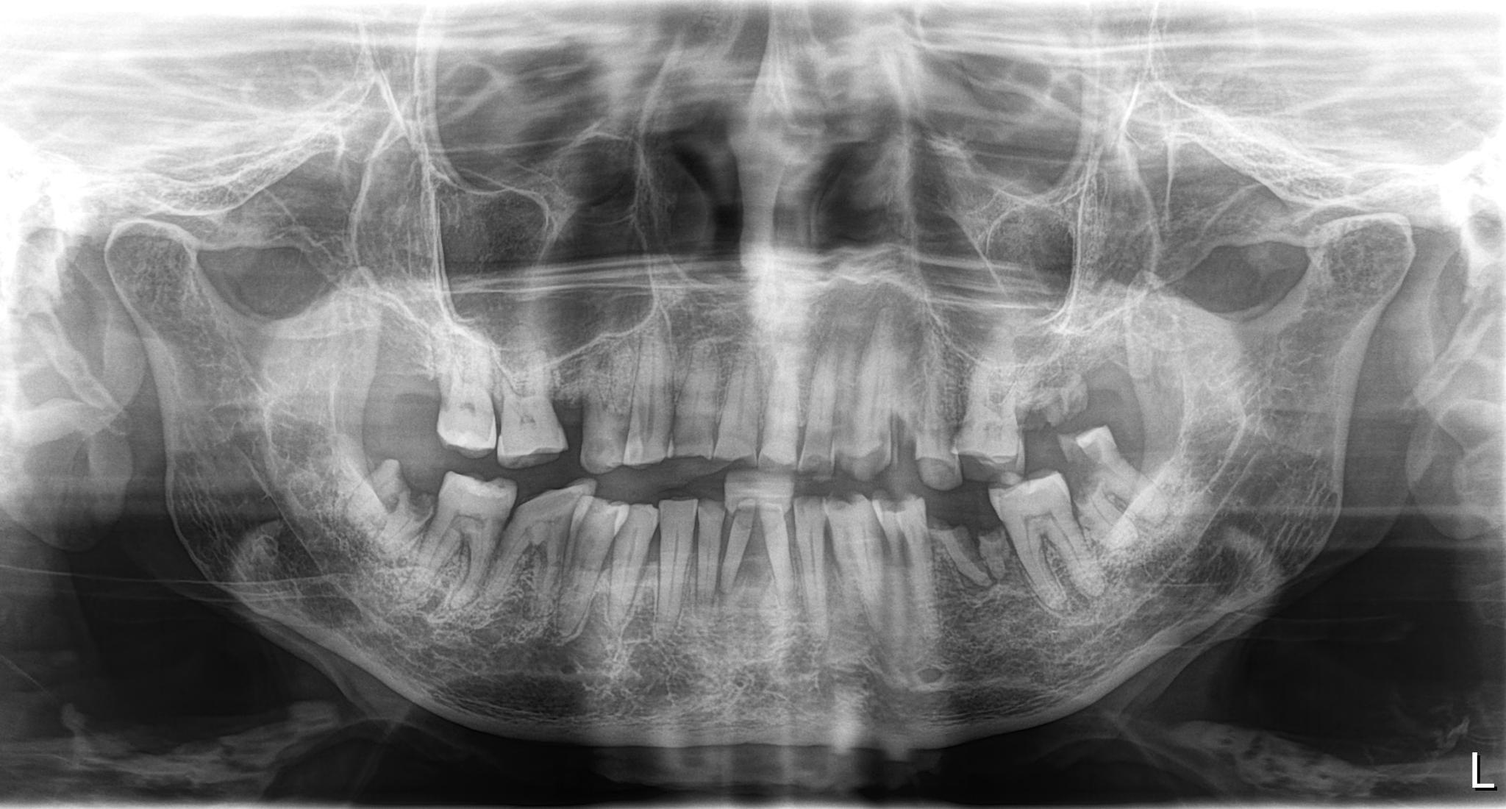Missing Tooth: (1031, 316, 1180, 430), (377, 292, 446, 442), (871, 342, 933, 479), (539, 316, 596, 450)
Retained Root: (936, 491, 1018, 663), (364, 456, 435, 651), (1064, 432, 1167, 564)
